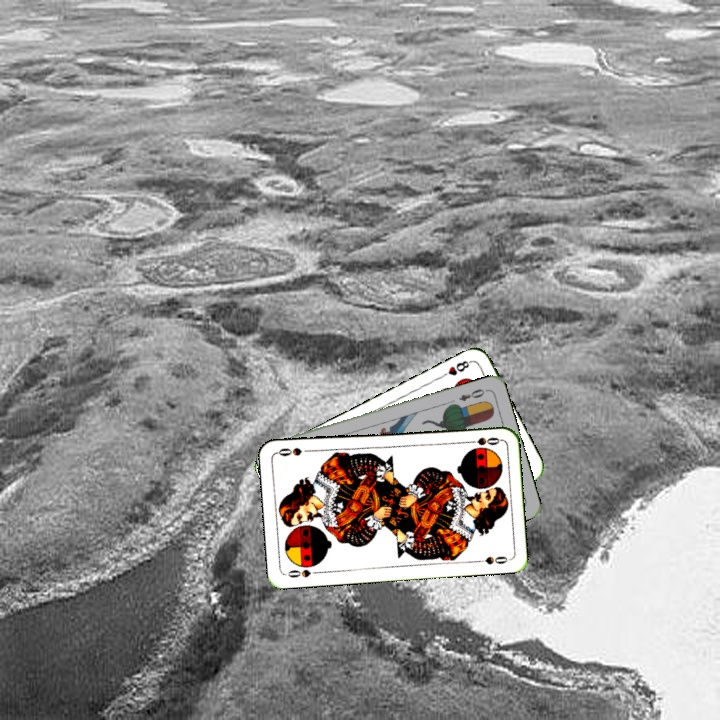EO: (455, 385, 490, 404)
H8: (436, 356, 474, 381)
SO: (462, 433, 503, 448), (282, 565, 323, 580)
